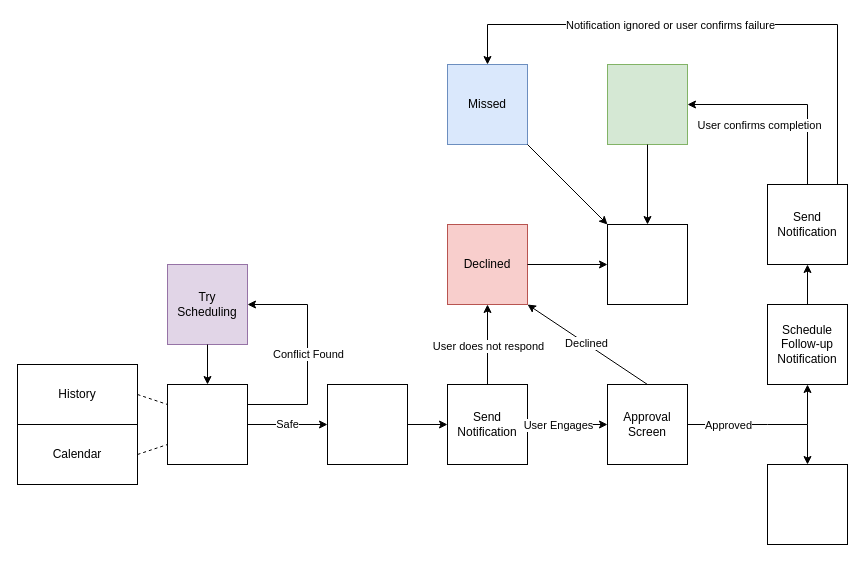
Image size: 865x562. Some labels were removed from this diagram. Each missing label, with the centre of its shape:
"Check for conflicts" belongs at point (207, 424).
"Completed" belongs at point (647, 104).
"Save to History" belongs at point (647, 264).
"Schedule Event in Calendar" belongs at point (807, 504).
"Schedule Notification" belongs at point (367, 424).
